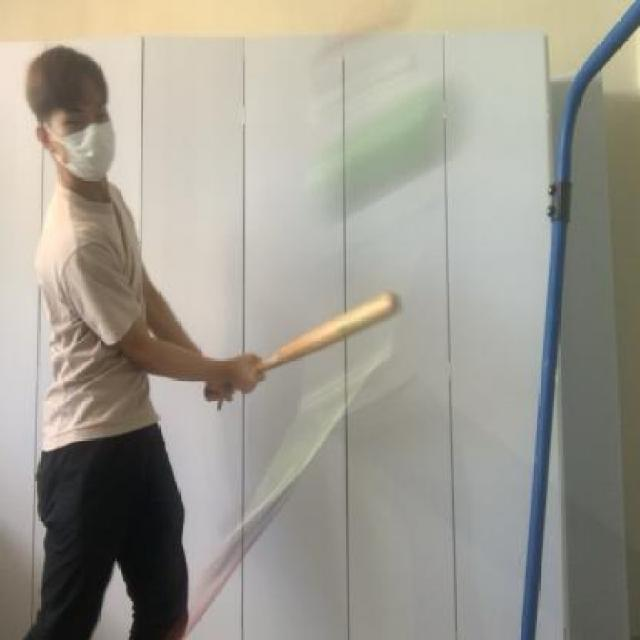baseball: (287, 73, 473, 218)
